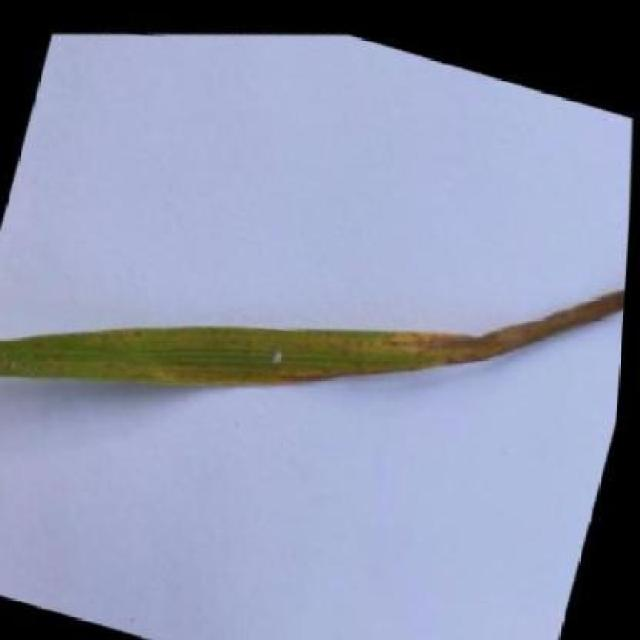Rice False Smut: (0, 111, 631, 534)
